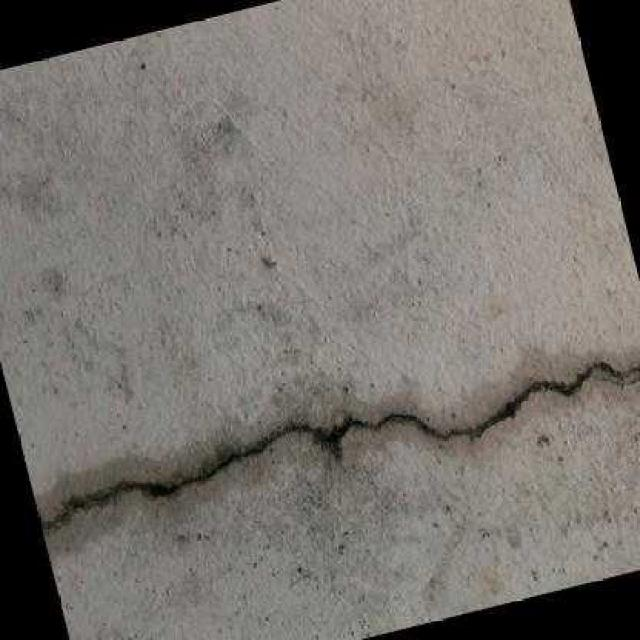D00: (39, 361, 640, 530)
